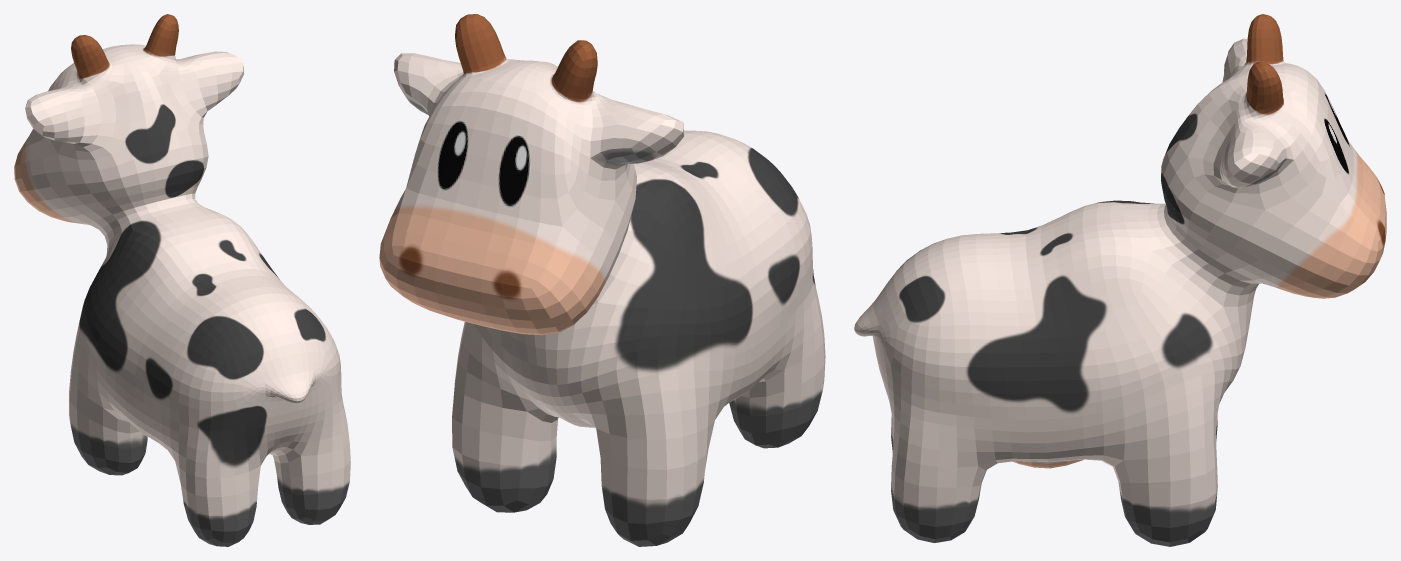
3 views of the same model, side by side, from view 1: azimuth 30°, elevation 25°; view 2: azimuth 150°, elevation 25°; view 3: azimuth 270°, elevation 25° (orthographic). The views are drawn at different scales.
Visible parts, largest first — view 1: spot_quadrangulated; view 2: spot_quadrangulated; view 3: spot_quadrangulated.
Boxes of the visible parts, x1=… form: spot_quadrangulated: x1=14, y1=14, x2=350, y2=546; spot_quadrangulated: x1=379, y1=14, x2=825, y2=546; spot_quadrangulated: x1=854, y1=14, x2=1386, y2=546.
Size of the model in its own units: 0.9431 by 1.69 by 1.72.
Materials: 1 (1 with a texture image).
